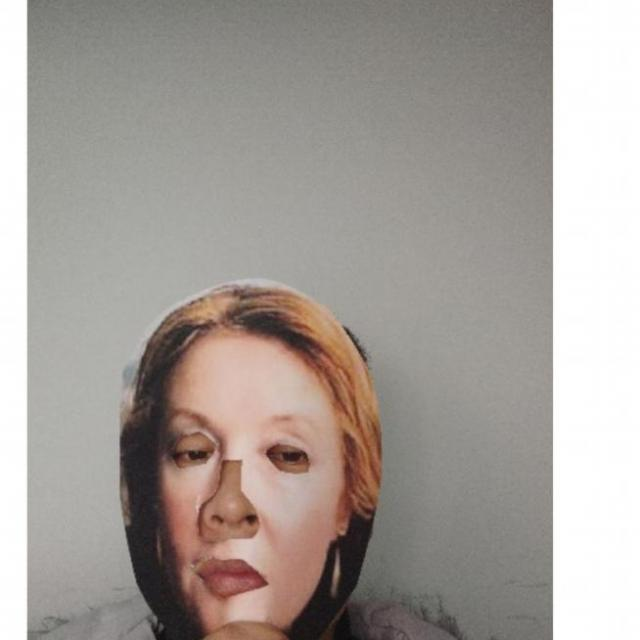mask: (114, 277, 386, 640)
